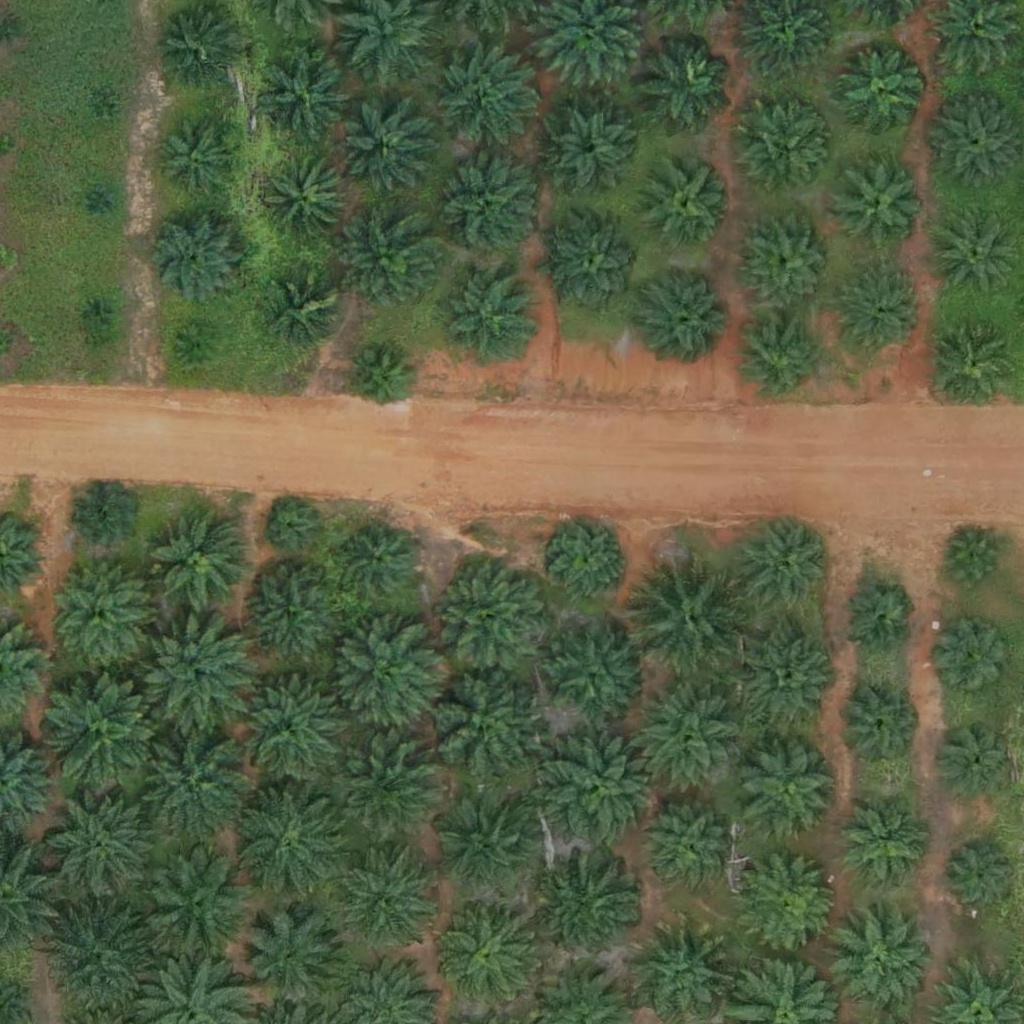Kelapa_Sawit: (42, 668, 167, 794), (38, 897, 163, 1023), (125, 717, 250, 843), (230, 779, 355, 905), (430, 552, 555, 678), (418, 663, 543, 789), (538, 727, 663, 853), (629, 553, 754, 679), (625, 676, 750, 802), (226, 671, 351, 796), (139, 617, 252, 730), (140, 849, 253, 962), (235, 905, 348, 1018), (139, 202, 251, 315), (41, 786, 153, 899), (328, 620, 440, 733), (329, 732, 441, 845), (253, 44, 353, 145), (340, 211, 440, 312), (434, 156, 534, 257), (439, 266, 539, 367), (50, 563, 150, 664), (150, 511, 250, 612), (239, 565, 339, 666), (438, 799, 538, 900), (439, 900, 539, 1001), (546, 855, 646, 956), (634, 34, 734, 134), (434, 48, 534, 148), (545, 215, 645, 315), (637, 266, 737, 366), (739, 212, 839, 312), (544, 624, 644, 724), (734, 516, 834, 616), (738, 632, 838, 732), (738, 739, 838, 839), (740, 856, 840, 956), (831, 912, 931, 1012), (157, 113, 245, 202), (836, 49, 924, 137), (542, 107, 630, 195), (154, 5, 242, 93), (263, 157, 351, 245), (836, 162, 924, 250), (838, 268, 926, 356), (934, 208, 1022, 296), (931, 318, 1019, 406), (341, 855, 429, 943), (840, 802, 928, 890), (835, 681, 922, 769), (742, 108, 829, 196), (343, 109, 430, 197), (645, 158, 732, 246), (739, 315, 826, 403), (646, 806, 733, 894), (939, 720, 1014, 796), (944, 839, 1019, 915), (551, 521, 626, 597), (839, 581, 914, 657), (937, 623, 1012, 698), (270, 275, 345, 350), (342, 524, 417, 599), (349, 348, 412, 411), (72, 486, 135, 549), (942, 529, 1004, 592), (267, 503, 317, 553), (179, 324, 217, 362), (89, 100, 114, 125), (90, 189, 115, 214), (83, 299, 108, 324)
